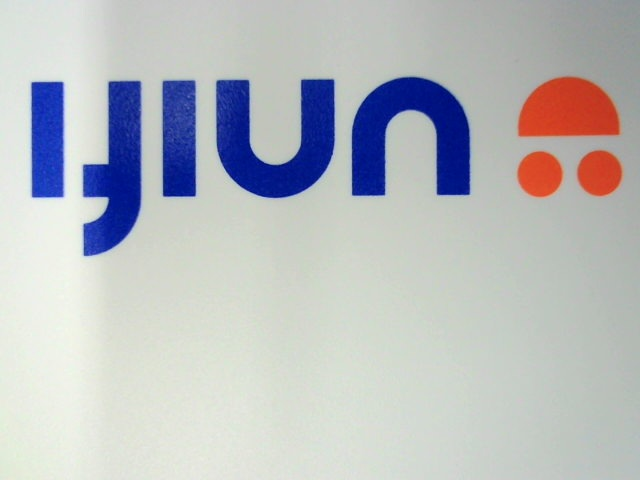BN_unifi: (9, 60, 626, 264)
